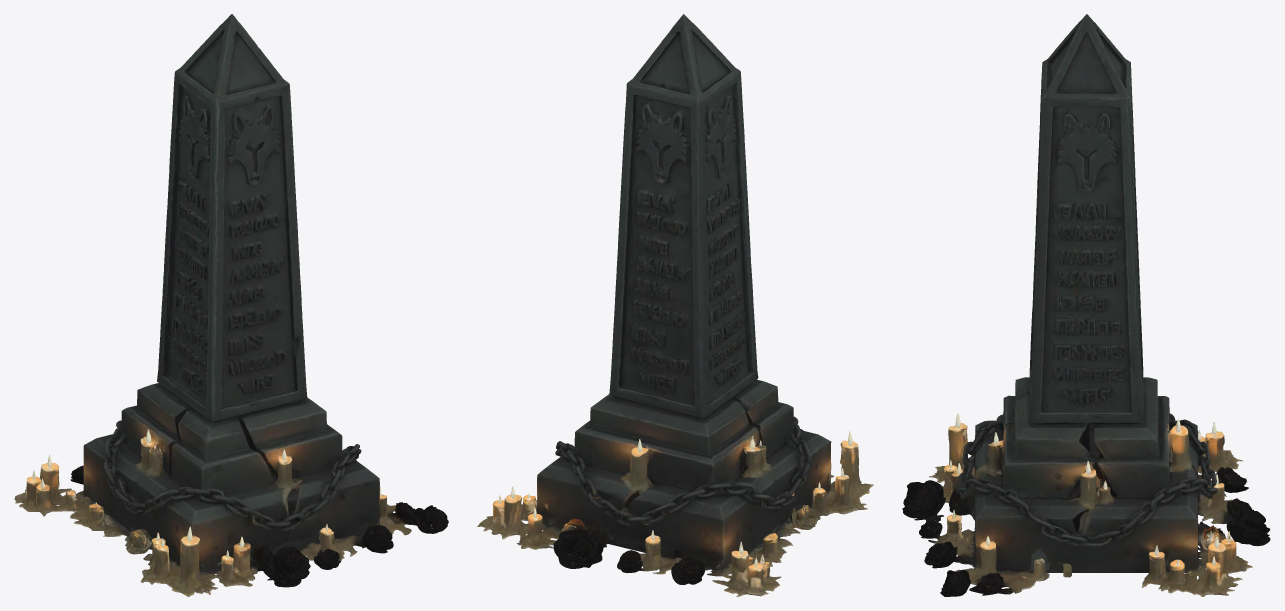
File: obelisk.glb
3 views of the same model, side by side, from view 1: azimuth 30°, elevation 25°; view 2: azimuth 150°, elevation 25°; view 3: azimuth 270°, elevation 25° (orthographic). The views are drawn at different scales.
Bounding box in the file's own units: 1.2 × 1.9 × 1.24.
Materials: 1 (1 with a texture image).
